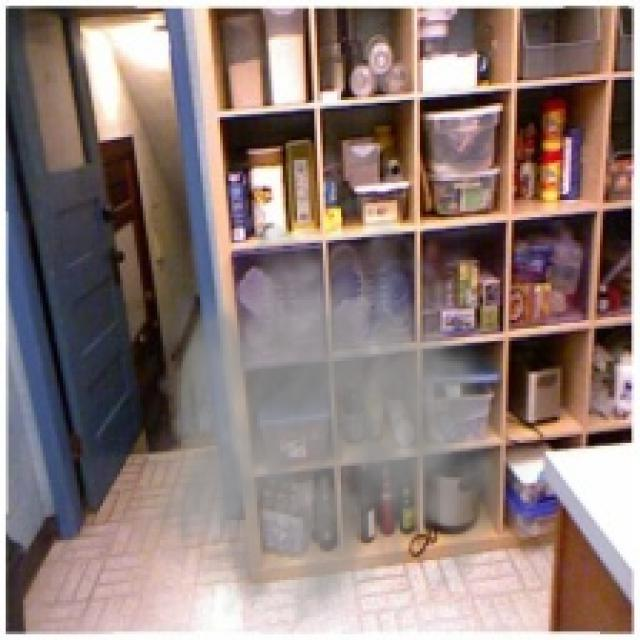smoke: (143, 217, 543, 634)
